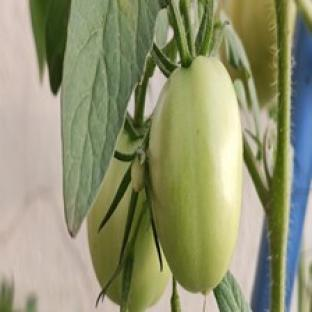Tomato: (148, 56, 242, 292), (88, 158, 132, 286)
